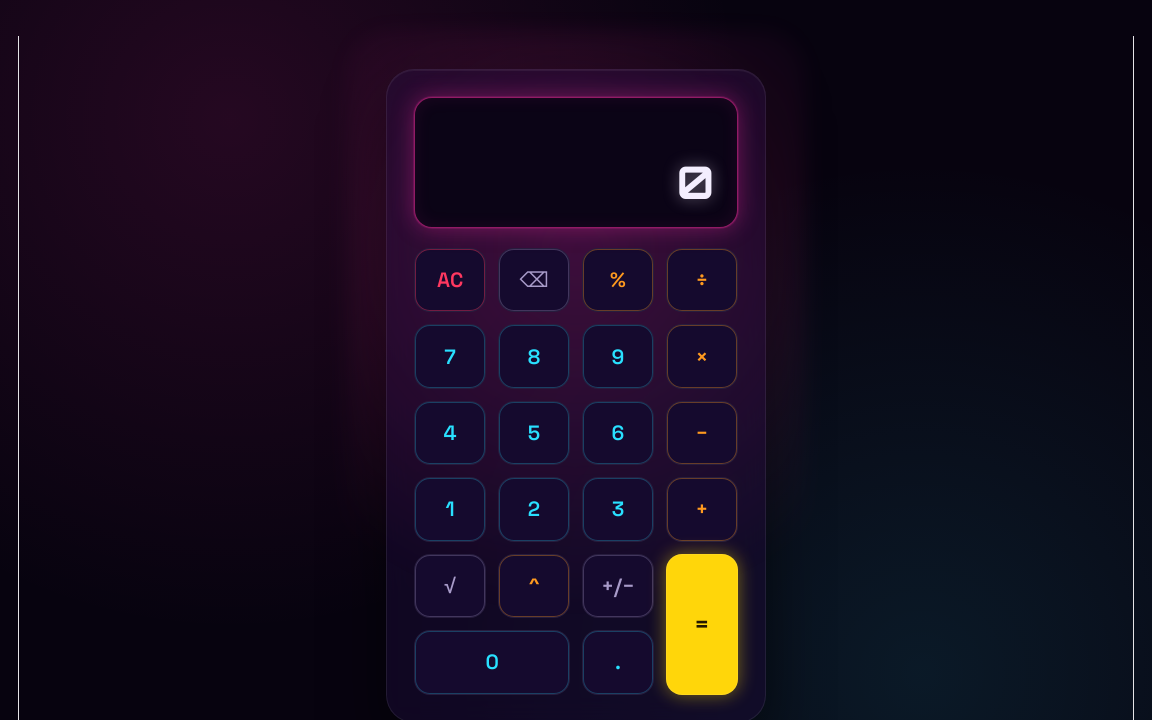
Scenario: <Calculator /> (integration, user behavior) › inputs › AC resets everything and Backspace removes the last character
Click the button "1" at (450, 510), box x1=414 y1=477 x2=486 y2=542
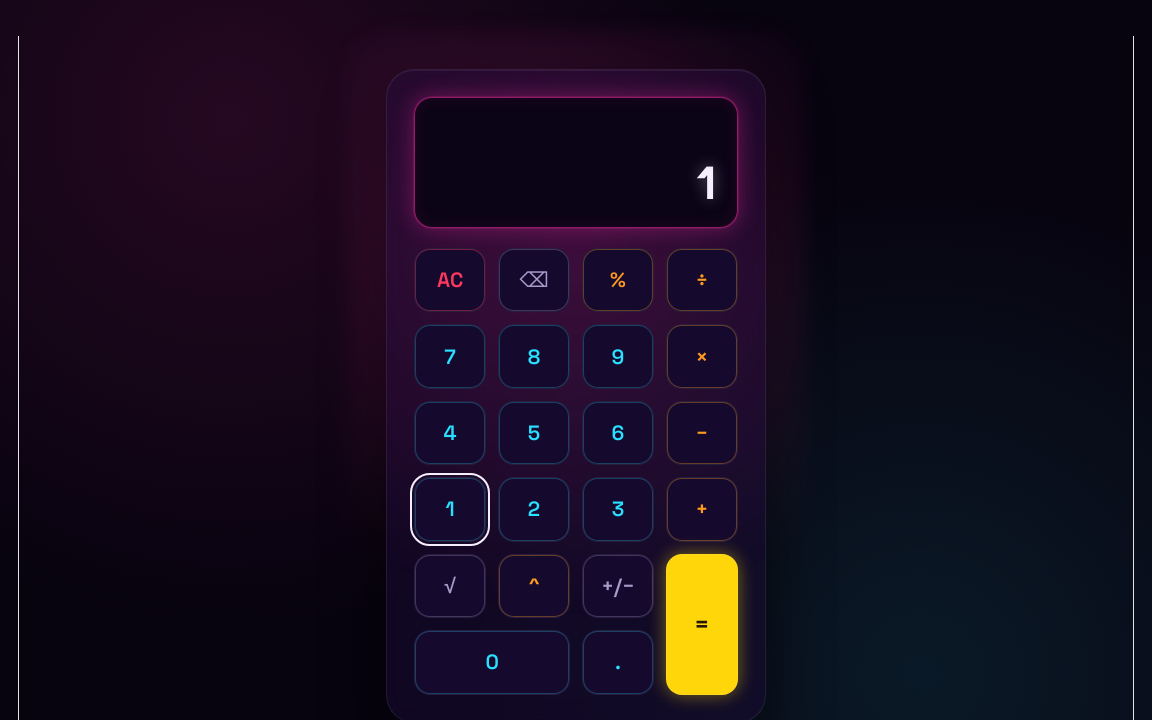
Click the button "2" at (534, 510), box x1=498 y1=477 x2=570 y2=542
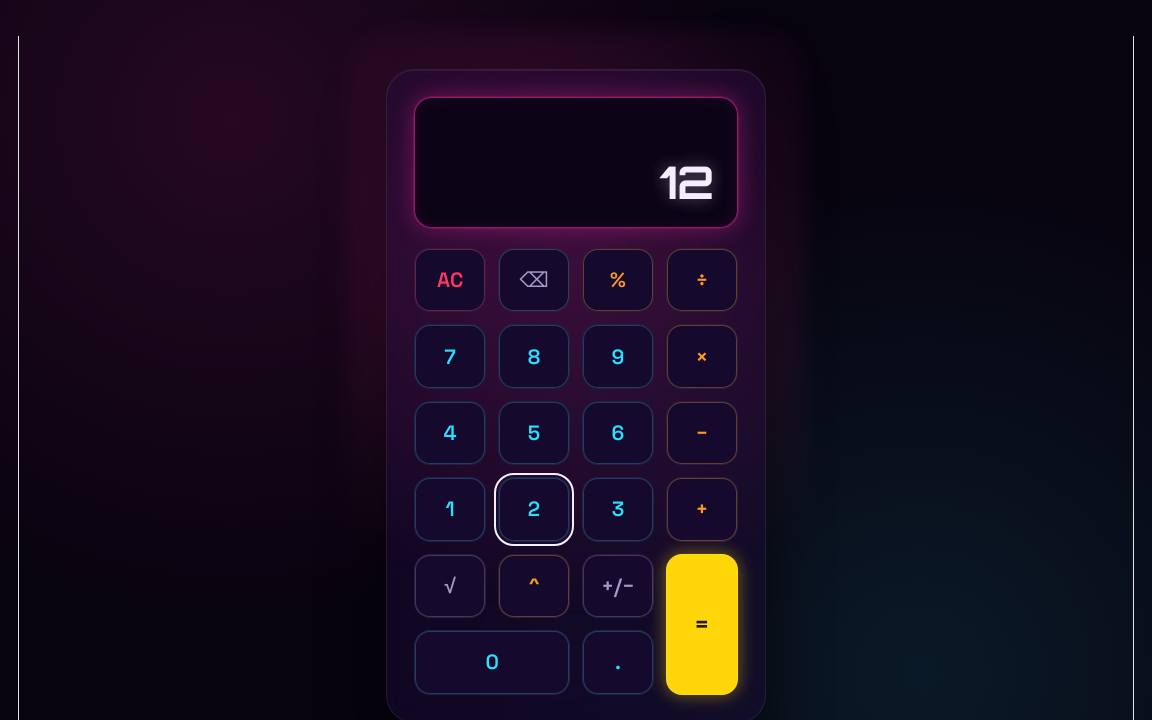
Click the button named "Backspace" at (534, 280), box x1=498 y1=248 x2=570 y2=312
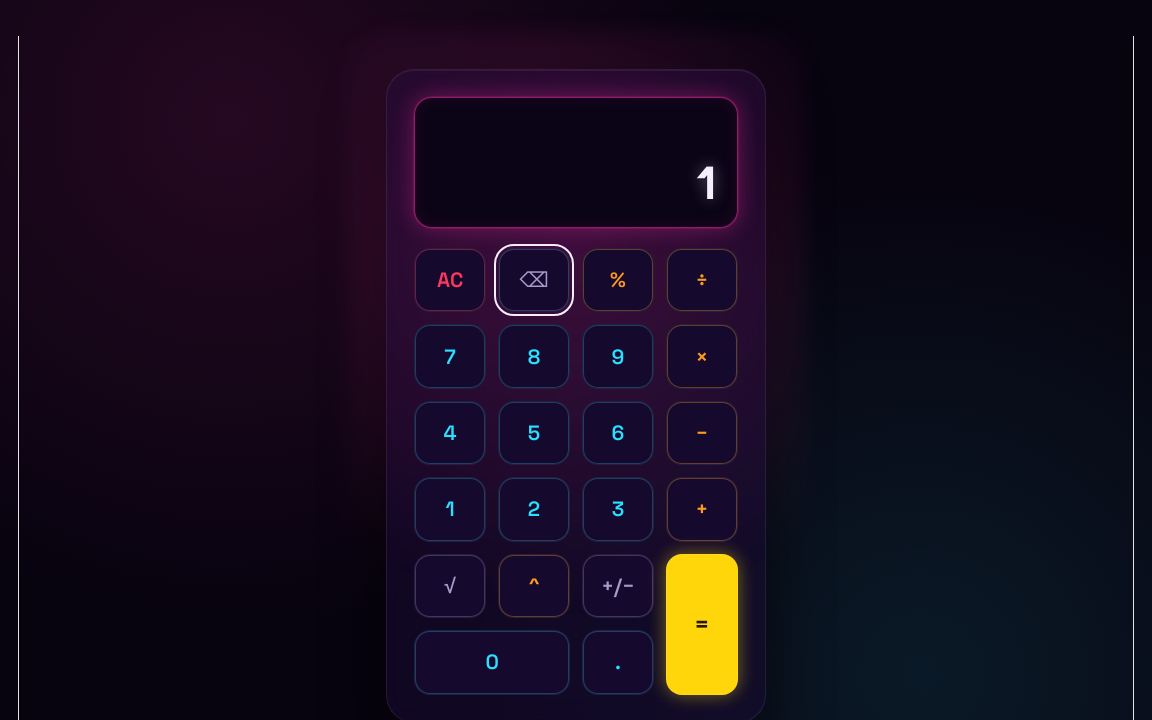
Check: the text with test id "display-value" reads "1", box x1=697 y1=154 x2=714 y2=210
Click the button with aria-label "Clear" at (450, 280), box x1=414 y1=248 x2=486 y2=312
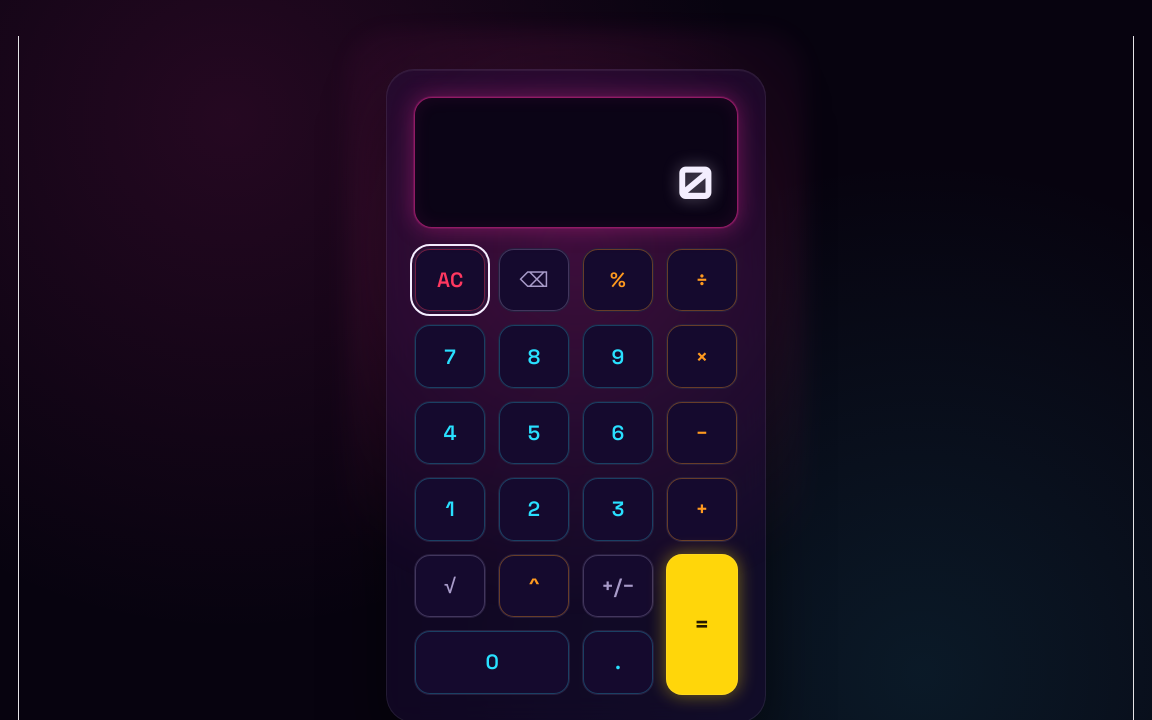
Check: the text with test id "display-value" reads "0", box x1=677 y1=154 x2=714 y2=210
